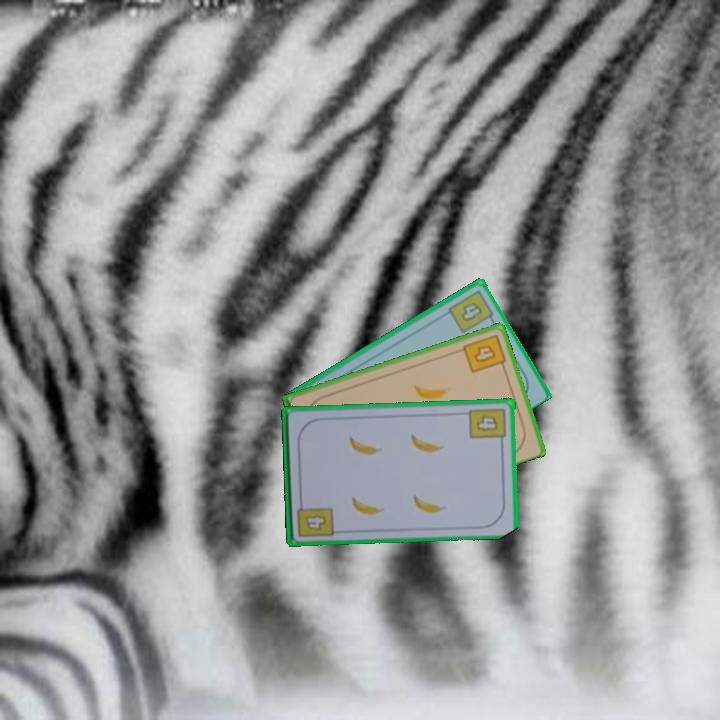4b: (444, 286, 498, 336), (459, 330, 509, 376), (466, 405, 509, 447), (302, 511, 330, 533)
